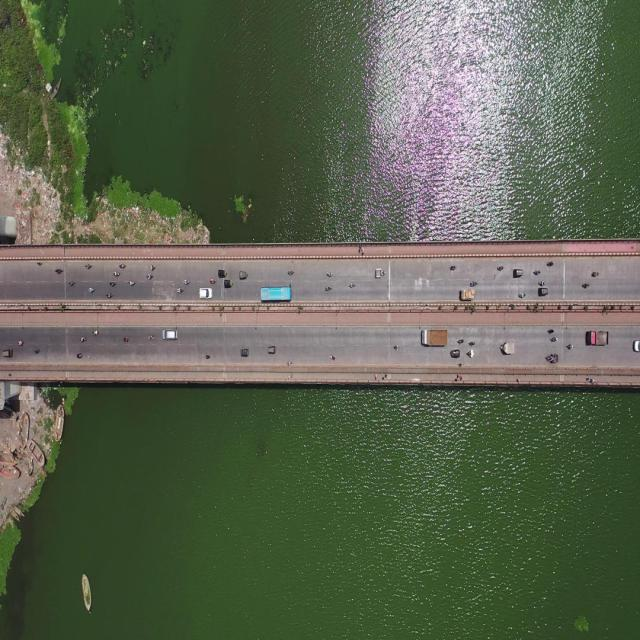3W: (498, 335, 517, 358), (2, 344, 15, 360), (544, 352, 560, 364), (373, 268, 387, 281), (450, 346, 461, 360), (535, 286, 549, 296), (238, 268, 248, 280), (218, 266, 227, 279), (239, 347, 250, 357), (225, 278, 234, 289), (267, 343, 276, 354), (513, 268, 523, 277)
Bus: (258, 283, 296, 306)
Cars: (198, 284, 215, 301), (162, 327, 178, 341)
M2W: (31, 345, 44, 361), (496, 260, 506, 276), (147, 332, 160, 344), (581, 278, 591, 293), (53, 266, 64, 278), (516, 289, 528, 300), (347, 278, 357, 291), (466, 349, 476, 362), (591, 264, 600, 278), (392, 340, 401, 353), (466, 339, 477, 349), (548, 333, 558, 343), (546, 326, 556, 336), (92, 326, 100, 338), (566, 340, 574, 352), (118, 260, 127, 270), (326, 269, 335, 279), (537, 279, 547, 288), (128, 278, 137, 287), (36, 260, 45, 269), (210, 276, 218, 286), (324, 283, 332, 293), (329, 349, 336, 360), (67, 279, 75, 288), (105, 291, 114, 299), (182, 277, 191, 285), (122, 334, 130, 343), (76, 352, 85, 360), (449, 264, 457, 273), (470, 278, 478, 287), (547, 260, 555, 269), (532, 268, 541, 276), (204, 350, 211, 360), (18, 337, 24, 348), (80, 333, 86, 344), (88, 285, 95, 294), (84, 264, 94, 270), (114, 270, 121, 278), (146, 273, 154, 280), (149, 262, 156, 270), (458, 336, 464, 345), (109, 282, 117, 288), (176, 288, 184, 294), (288, 270, 295, 276)
Truck: (416, 318, 449, 349), (584, 327, 610, 352), (460, 285, 477, 302)
